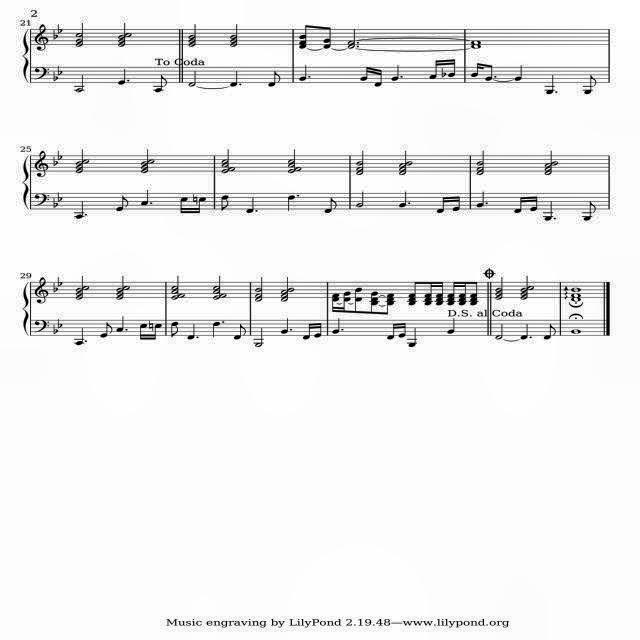Bass-clef: (33, 23, 51, 51), (34, 150, 50, 178), (34, 276, 50, 304)
Bemol: (54, 276, 66, 288), (50, 28, 59, 40), (52, 23, 64, 32), (439, 66, 447, 78), (51, 282, 58, 294), (51, 322, 58, 334), (56, 65, 64, 75), (56, 150, 64, 160), (56, 192, 64, 202), (56, 319, 64, 329), (51, 156, 58, 167), (51, 72, 57, 82), (52, 196, 56, 208)
Eighth-note: (579, 72, 599, 96), (110, 193, 130, 213), (580, 200, 598, 222), (266, 70, 284, 88), (322, 196, 338, 216), (152, 76, 168, 92), (98, 322, 114, 338), (234, 323, 248, 341), (542, 324, 556, 342), (218, 194, 230, 212), (483, 62, 493, 82), (169, 320, 179, 338)
Full-note: (470, 43, 482, 49), (570, 292, 582, 298), (570, 288, 584, 292), (570, 330, 582, 334), (570, 298, 582, 302), (471, 40, 482, 44)
Half-note: (70, 74, 86, 94), (254, 326, 266, 348), (494, 322, 504, 342), (186, 70, 196, 88), (355, 192, 365, 208)
Quarter-note: (538, 73, 554, 95), (68, 200, 84, 220), (277, 317, 291, 335), (242, 195, 254, 215), (186, 322, 198, 341), (542, 200, 552, 222), (74, 325, 84, 347), (116, 68, 128, 86), (408, 326, 417, 349), (138, 190, 150, 207), (518, 324, 530, 341), (475, 189, 485, 209), (331, 315, 341, 335), (447, 319, 458, 337), (512, 65, 524, 81), (284, 194, 296, 210), (395, 192, 407, 208), (389, 64, 399, 82), (115, 315, 125, 333), (297, 65, 307, 81), (212, 318, 220, 338), (230, 71, 238, 87)
Sixteenth-note: (298, 323, 314, 341), (527, 194, 541, 214), (426, 59, 438, 81), (434, 196, 446, 216), (450, 194, 462, 213), (356, 66, 370, 82), (177, 196, 189, 214), (514, 195, 526, 213), (312, 321, 324, 339), (384, 322, 396, 340), (373, 68, 382, 88), (470, 61, 480, 79), (137, 323, 147, 341), (397, 321, 407, 339), (448, 58, 456, 78), (154, 322, 162, 342), (198, 196, 206, 214)
